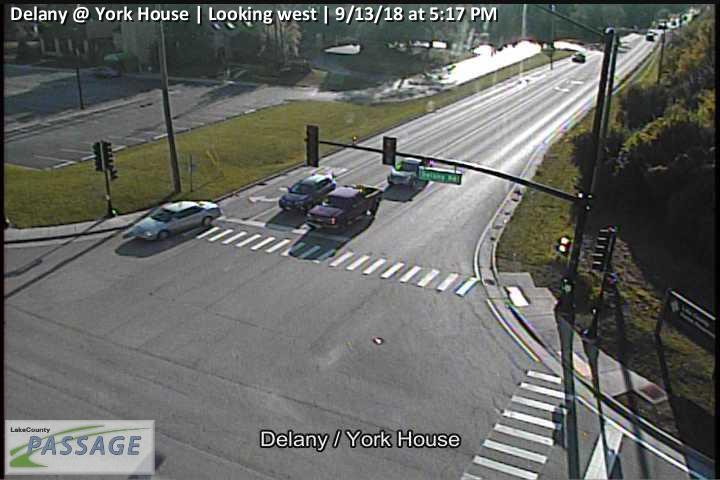SUV: (279, 174, 336, 211), (388, 156, 426, 185)
Sedan: (130, 200, 222, 242)
Truck: (307, 184, 383, 230)
